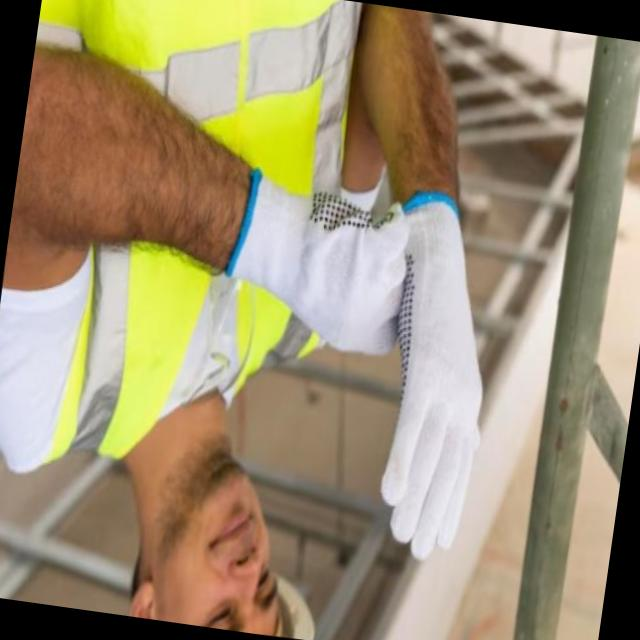gloved: (340, 184, 519, 572), (213, 162, 421, 364)
